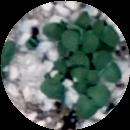Basil: (78, 86, 110, 116), (55, 54, 91, 79), (90, 19, 116, 48), (37, 73, 61, 104), (64, 28, 92, 54), (96, 54, 123, 80), (43, 20, 70, 46), (75, 65, 104, 85)
